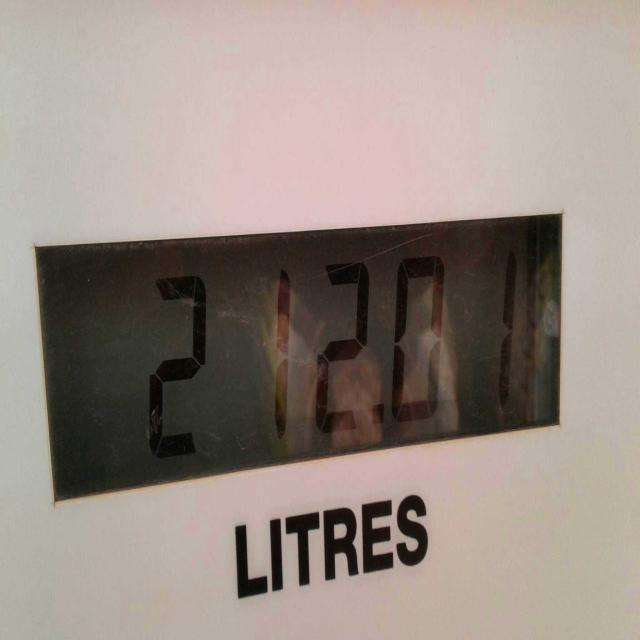.: (361, 394, 391, 446)
0: (380, 245, 460, 434)
1: (250, 260, 312, 462), (484, 250, 538, 424)
2: (133, 257, 223, 473), (308, 253, 371, 446)
